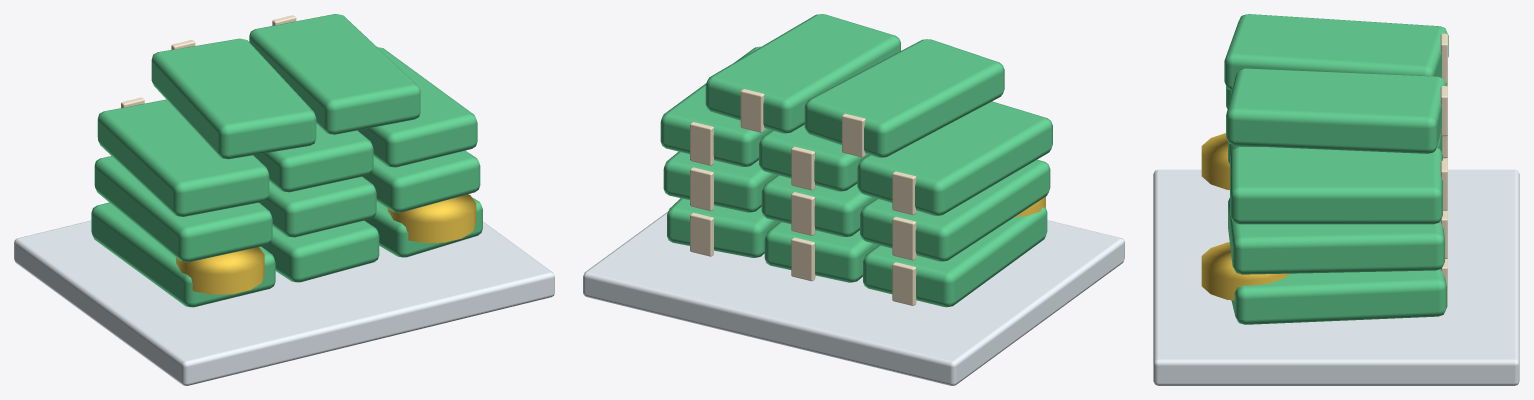
File: money_stack.glb
3 views of the same model, side by side, from view 1: azimuth 30°, elevation 25°; view 2: azimuth 150°, elevation 25°; view 3: azimuth 270°, elevation 25° (orthographic). The views are drawn at different scales.
Parts seen in each view (by area): view 1: money_stack; view 2: money_stack; view 3: money_stack.
Part boxes in pixels (x1,y1,x2,y2): money_stack: (14, 14, 554, 385); money_stack: (583, 14, 1124, 385); money_stack: (1153, 14, 1519, 385).
Size of the model in its own units: 1.55 by 0.845 by 1.24.
